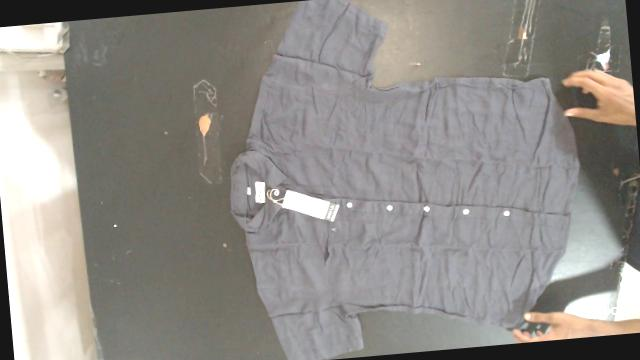new-garment: (230, 0, 579, 360)
